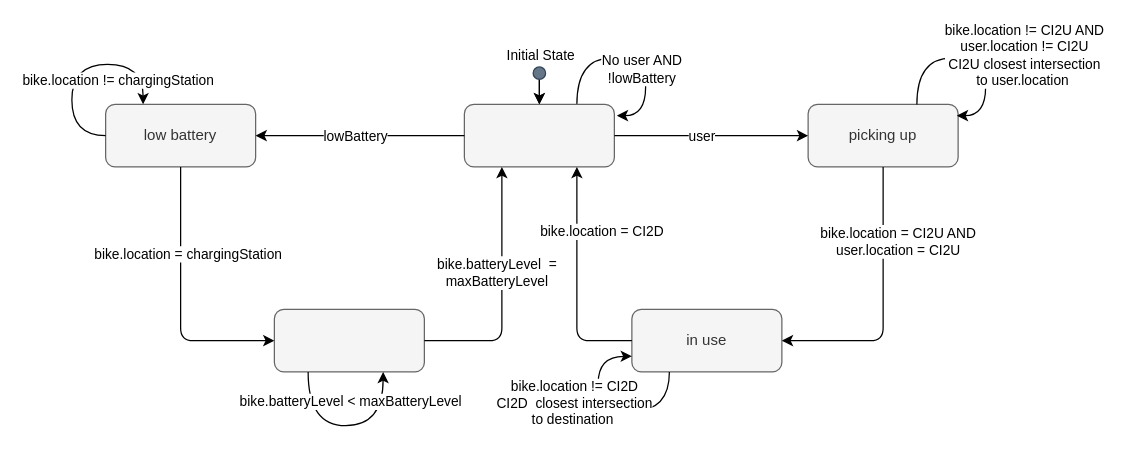
This 1125x449 diagram has some shape labels left out. Here are the shapes that lost their labels. From the top down, the centre of each, then its label:
At point 538,135: "wandering".
At point 348,340: "getting charge".
